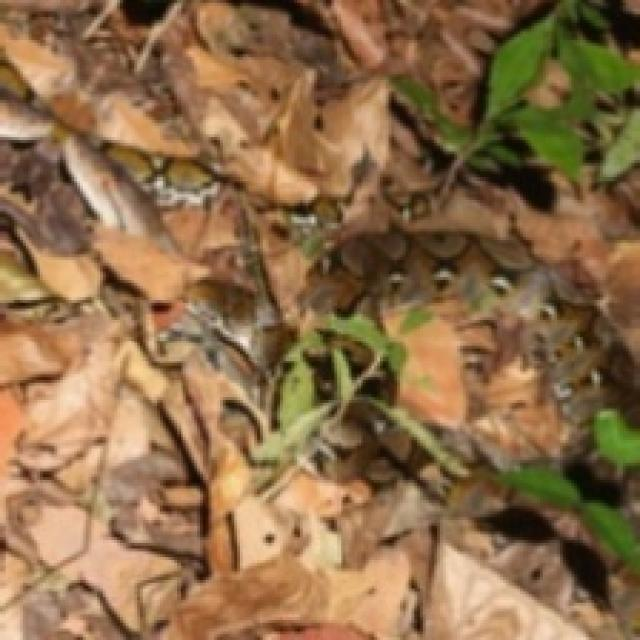reticulated python: (305, 229, 640, 421), (190, 280, 298, 369)
